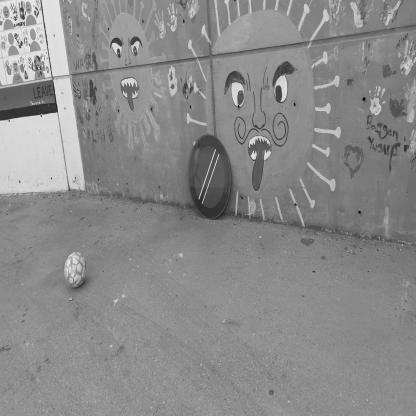No Waiting: (189, 136, 233, 222)
